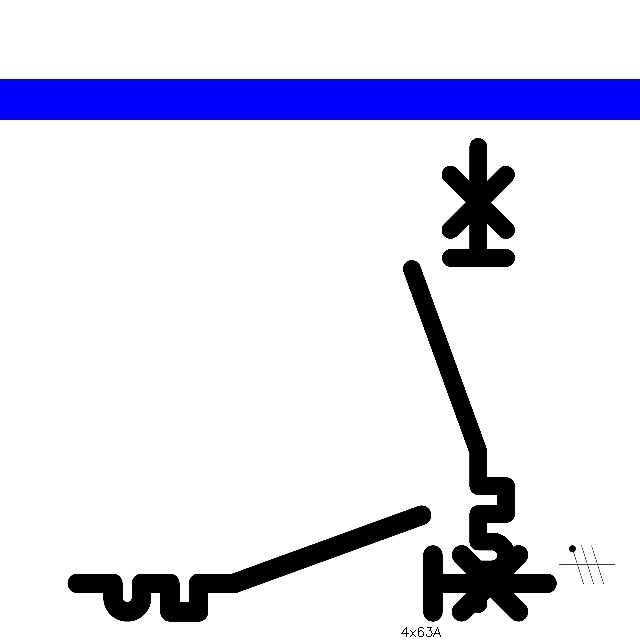interruptor_termomagnetico: (65, 503, 559, 624), (400, 135, 518, 616)
